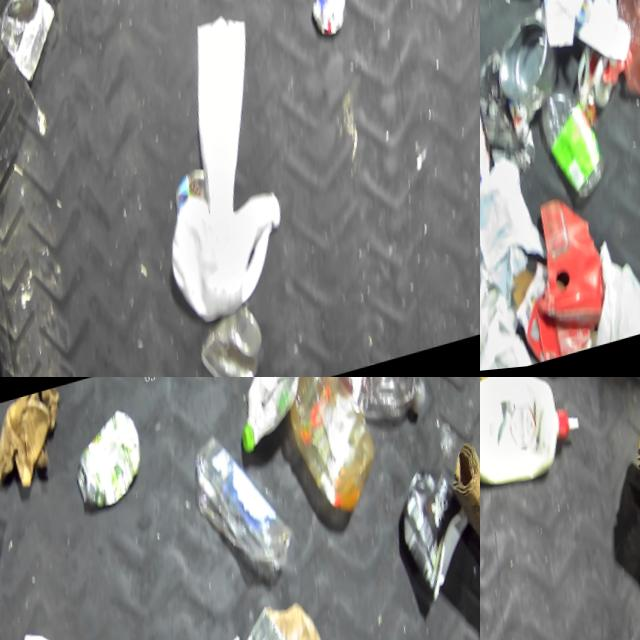can: (64, 408, 157, 524), (492, 16, 577, 132), (201, 302, 292, 377), (0, 0, 74, 92), (480, 262, 529, 377), (576, 43, 630, 121), (303, 0, 374, 52), (0, 499, 16, 596)
milk_jug: (166, 184, 312, 343), (219, 377, 322, 464)
non_white_jug: (480, 377, 545, 403)
plastic_bottle: (536, 76, 629, 217), (293, 377, 440, 455)
